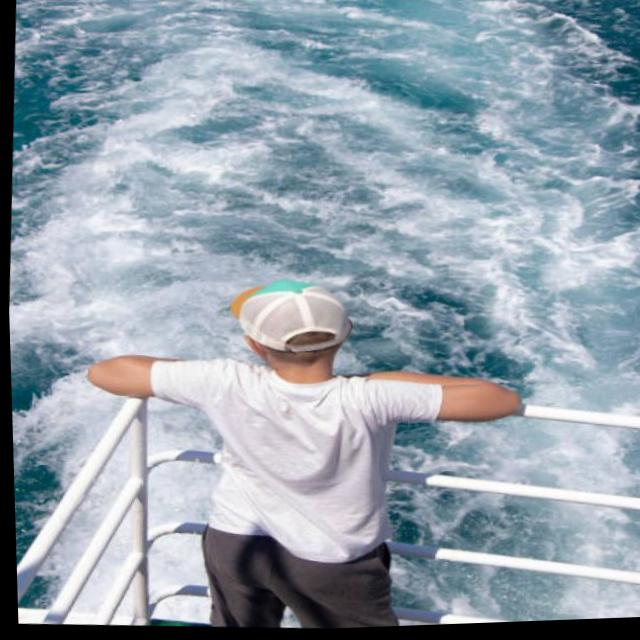no helmet: (218, 271, 374, 384)
